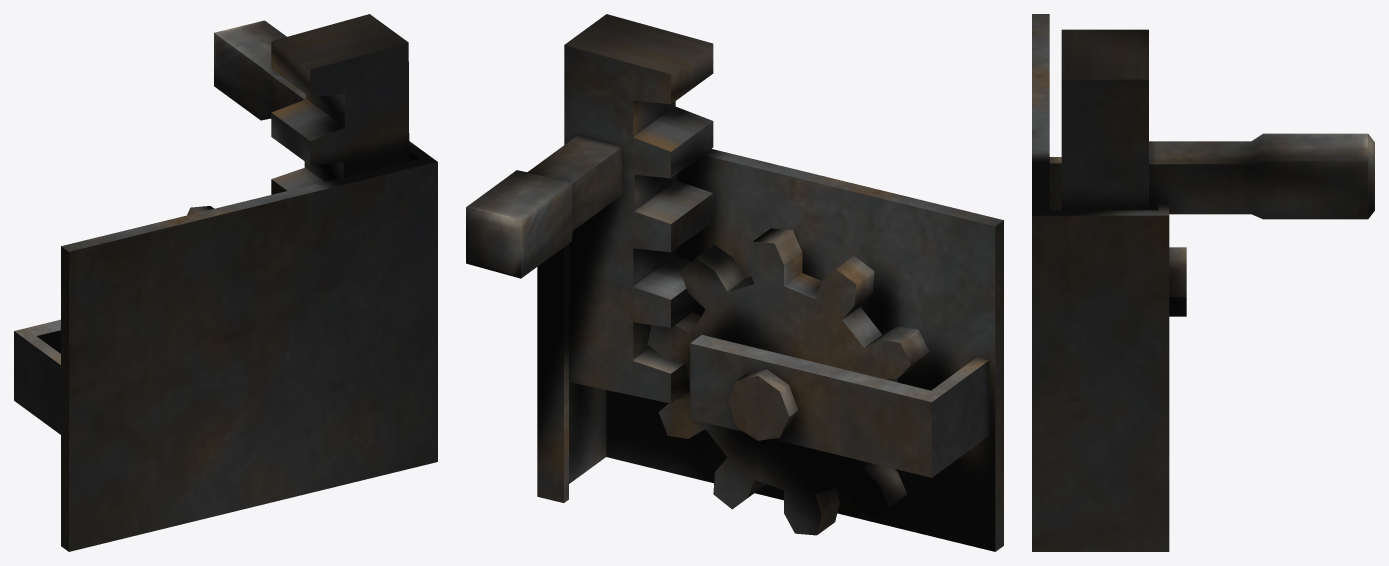
Rendered from SWITCH_WALL.obj.
The picture shows the model from 3 angles, left to right: view 1: azimuth 30°, elevation 25°; view 2: azimuth 150°, elevation 25°; view 3: azimuth 270°, elevation 25°; orthographic projection. The views are drawn at different scales.
Parts seen in each view (by area): view 1: Group; view 2: Group; view 3: Group.
Part boxes in pixels (x1,y1,x2,y2): Group: (14,14,437,551); Group: (466,14,1003,551); Group: (1032,14,1374,551).
Size of the model in its own units: 64.38 by 68.99 by 46.23.
Materials: 1 (1 with a texture image).
